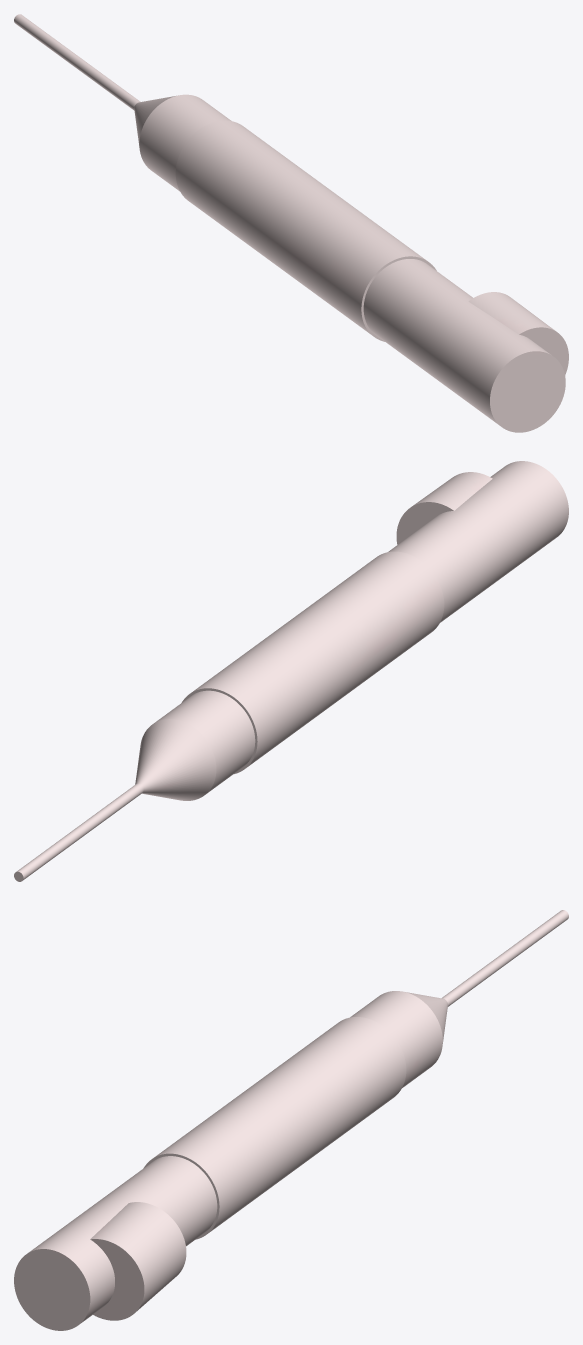
File: makevr_0001.obj
3 views of the same model, one above another, from view 1: azimuth 30°, elevation 25°; view 2: azimuth 150°, elevation 25°; view 3: azimuth 330°, elevation 25° (orthographic).
Size of the model in its own units: 21.41 by 16.28 by 177.
4 materials, 4 textured.
